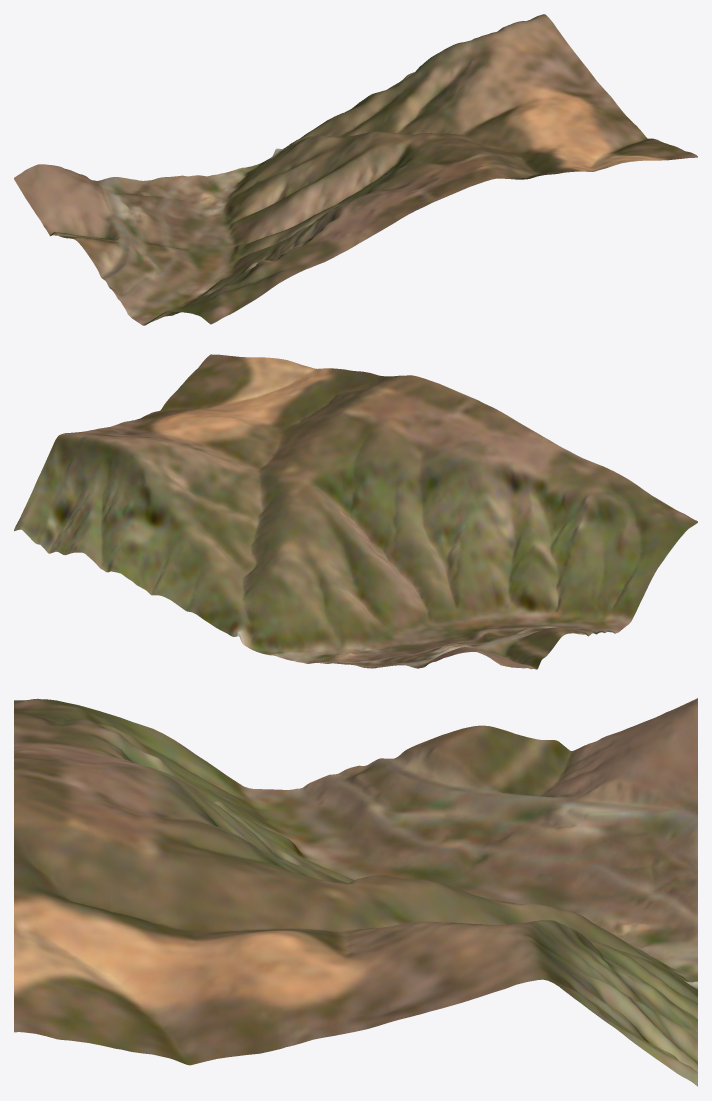
The model's file is terrain_r0_c3.glb.
3 views of the same model, one above another, from view 1: azimuth 30°, elevation 25°; view 2: azimuth 150°, elevation 25°; view 3: azimuth 270°, elevation 25° (orthographic). The views are drawn at different scales.
Visible parts, largest first — view 1: terrain_r0_c3_lod0; view 2: terrain_r0_c3_lod0; view 3: terrain_r0_c3_lod0.
Boxes of the visible parts, bbox=[...] form: terrain_r0_c3_lod0: bbox=[14, 14, 697, 325]; terrain_r0_c3_lod0: bbox=[14, 354, 697, 669]; terrain_r0_c3_lod0: bbox=[14, 698, 697, 1086].
Bounding box in the file's own units: 1125 × 295 × 787.
1 material, 1 textured.
